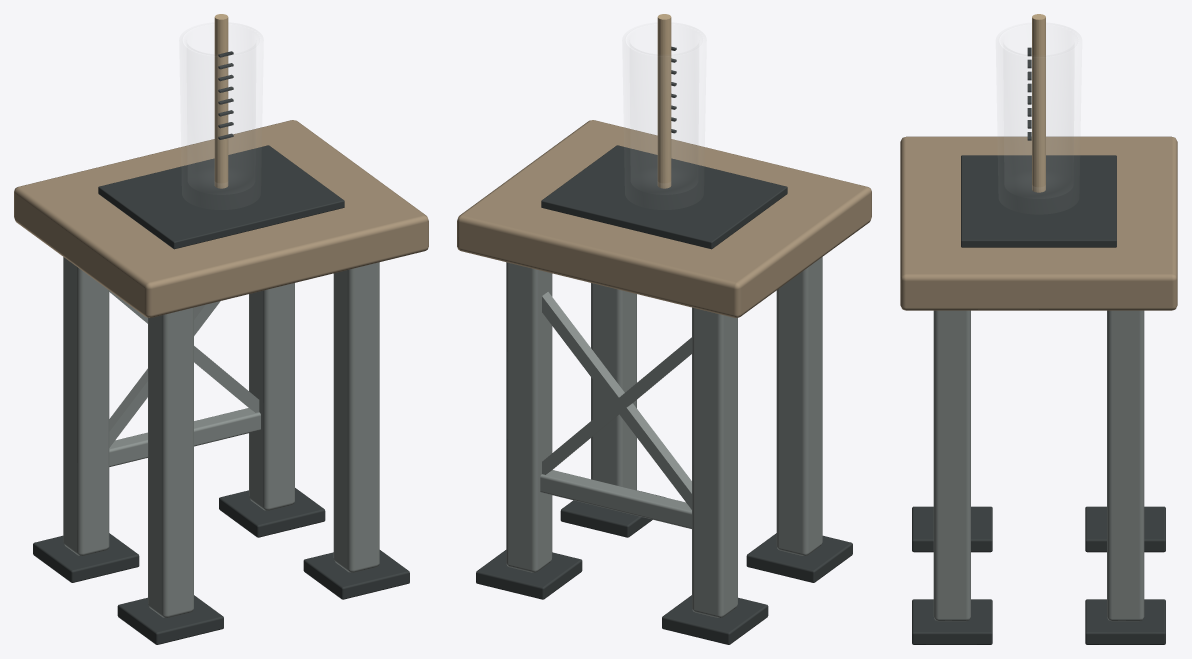
The model's file is coastal-saltworks-and-trade-port-coastal-saltworks-and-bc284b7f__31378.glb.
3 views of the same model, side by side, from view 1: azimuth 30°, elevation 25°; view 2: azimuth 150°, elevation 25°; view 3: azimuth 270°, elevation 25° (orthographic). The views are drawn at different scales.
Visible parts, largest first — view 1: coastal-saltworks-and-trade-port-salinity-float-stand; view 2: coastal-saltworks-and-trade-port-salinity-float-stand; view 3: coastal-saltworks-and-trade-port-salinity-float-stand.
Part boxes in pixels (x1,y1,x2,y2): coastal-saltworks-and-trade-port-salinity-float-stand: (14,14,428,644); coastal-saltworks-and-trade-port-salinity-float-stand: (457,14,871,644); coastal-saltworks-and-trade-port-salinity-float-stand: (900,14,1177,644).
Size of the model in its own units: 0.58 by 1.08 by 0.48.
